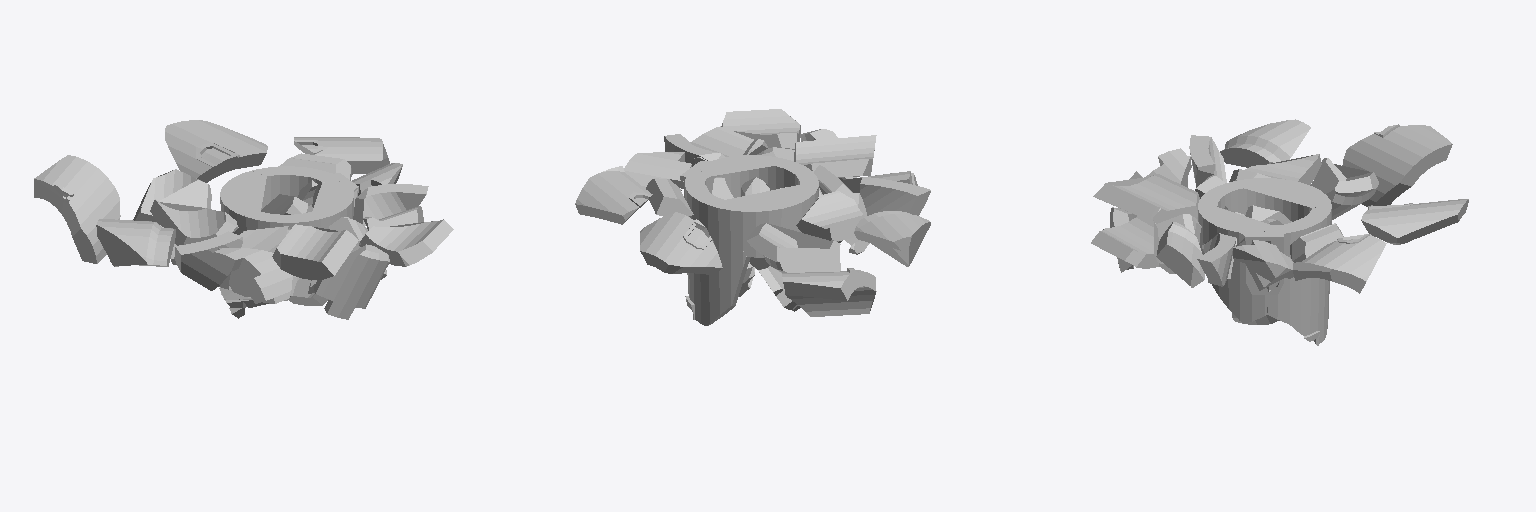
The model's file is destruction_tower_000081.obj.
3 views of the same model, side by side, from view 1: azimuth 30°, elevation 25°; view 2: azimuth 150°, elevation 25°; view 3: azimuth 270°, elevation 25° (orthographic).
Parts seen in each view (by area): view 1: tower.001_cell.003_Mesh.003, tower.001_cell.025_Mesh.025, tower.001_cell.024_Mesh.024, tower.001_cell.011_Mesh.011, tower.001_cell.005_Mesh.005, tower.001_cell.006_Mesh.006, tower.001_cell.021_Mesh.021, tower.001_cell.009_Mesh.009, tower.001_cell.012_Mesh.012, tower.001_cell.007_Mesh.007, tower.001_cell.002_Mesh.002, tower.001_cell.010_Mesh.010 (+11 smaller); view 2: tower.001_cell.017_Mesh.017, tower.001_cell.025_Mesh.025, tower.001_cell.003_Mesh.003, tower.001_cell.015_Mesh.015, tower.001_cell.007_Mesh.007, tower.001_cell.012_Mesh.012, tower.001_cell.005_Mesh.005, tower.001_cell.024_Mesh.024, tower.001_cell.028_Mesh.028, tower.001_cell.009_Mesh.009, tower.001_cell.021_Mesh.021, tower.001_cell.002_Mesh.002 (+8 smaller); view 3: tower.001_cell.003_Mesh.003, tower.001_cell.024_Mesh.024, tower.001_cell.017_Mesh.017, tower.001_cell.012_Mesh.012, tower.001_cell.025_Mesh.025, tower.001_cell.005_Mesh.005, tower.001_cell.015_Mesh.015, tower.001_cell.021_Mesh.021, tower.001_cell.007_Mesh.007, tower.001_cell.020_Mesh.020, tower.001_cell.028_Mesh.028, tower.001_cell_Mesh (+9 smaller).
Boxes of the visible parts, x1=… form: tower.001_cell.003_Mesh.003: x1=34, y1=155, x2=120, y2=263; tower.001_cell.025_Mesh.025: x1=165, y1=120, x2=267, y2=182; tower.001_cell.024_Mesh.024: x1=272, y1=224, x2=358, y2=279; tower.001_cell.011_Mesh.011: x1=314, y1=244, x2=389, y2=319; tower.001_cell.005_Mesh.005: x1=96, y1=219, x2=175, y2=266; tower.001_cell.006_Mesh.006: x1=214, y1=248, x2=292, y2=303; tower.001_cell.021_Mesh.021: x1=359, y1=219, x2=453, y2=266; tower.001_cell.009_Mesh.009: x1=150, y1=199, x2=238, y2=245; tower.001_cell.012_Mesh.012: x1=294, y1=137, x2=389, y2=174; tower.001_cell.007_Mesh.007: x1=133, y1=169, x2=211, y2=264; tower.001_cell.002_Mesh.002: x1=174, y1=231, x2=242, y2=290; tower.001_cell.010_Mesh.010: x1=353, y1=184, x2=428, y2=225; tower.001_cell.017_Mesh.017: x1=685, y1=179, x2=750, y2=325; tower.001_cell.025_Mesh.025: x1=640, y1=212, x2=722, y2=275; tower.001_cell.003_Mesh.003: x1=782, y1=268, x2=876, y2=316; tower.001_cell.015_Mesh.015: x1=721, y1=185, x2=816, y2=257; tower.001_cell.007_Mesh.007: x1=747, y1=223, x2=840, y2=272; tower.001_cell.012_Mesh.012: x1=575, y1=166, x2=652, y2=224; tower.001_cell.005_Mesh.005: x1=854, y1=211, x2=930, y2=266; tower.001_cell.024_Mesh.024: x1=794, y1=135, x2=876, y2=177; tower.001_cell.028_Mesh.028: x1=699, y1=155, x2=808, y2=197; tower.001_cell.009_Mesh.009: x1=796, y1=191, x2=864, y2=241; tower.001_cell.021_Mesh.021: x1=721, y1=109, x2=800, y2=149; tower.001_cell.002_Mesh.002: x1=860, y1=177, x2=930, y2=215; tower.001_cell.003_Mesh.003: x1=1342, y1=124, x2=1452, y2=206; tower.001_cell.024_Mesh.024: x1=1093, y1=174, x2=1199, y2=223; tower.001_cell.017_Mesh.017: x1=1289, y1=205, x2=1331, y2=345; tower.001_cell.012_Mesh.012: x1=1293, y1=234, x2=1386, y2=293; tower.001_cell.025_Mesh.025: x1=1361, y1=199, x2=1468, y2=244; tower.001_cell.005_Mesh.005: x1=1220, y1=119, x2=1310, y2=167; tower.001_cell.015_Mesh.015: x1=1243, y1=178, x2=1331, y2=221; tower.001_cell.021_Mesh.021: x1=1091, y1=213, x2=1158, y2=268; tower.001_cell.007_Mesh.007: x1=1310, y1=158, x2=1378, y2=219; tower.001_cell.020_Mesh.020: x1=1212, y1=232, x2=1270, y2=323; tower.001_cell.028_Mesh.028: x1=1198, y1=193, x2=1271, y2=254; tower.001_cell_Mesh: x1=1156, y1=222, x2=1204, y2=287.
Size of the model in its own units: 112 by 44.39 by 121.